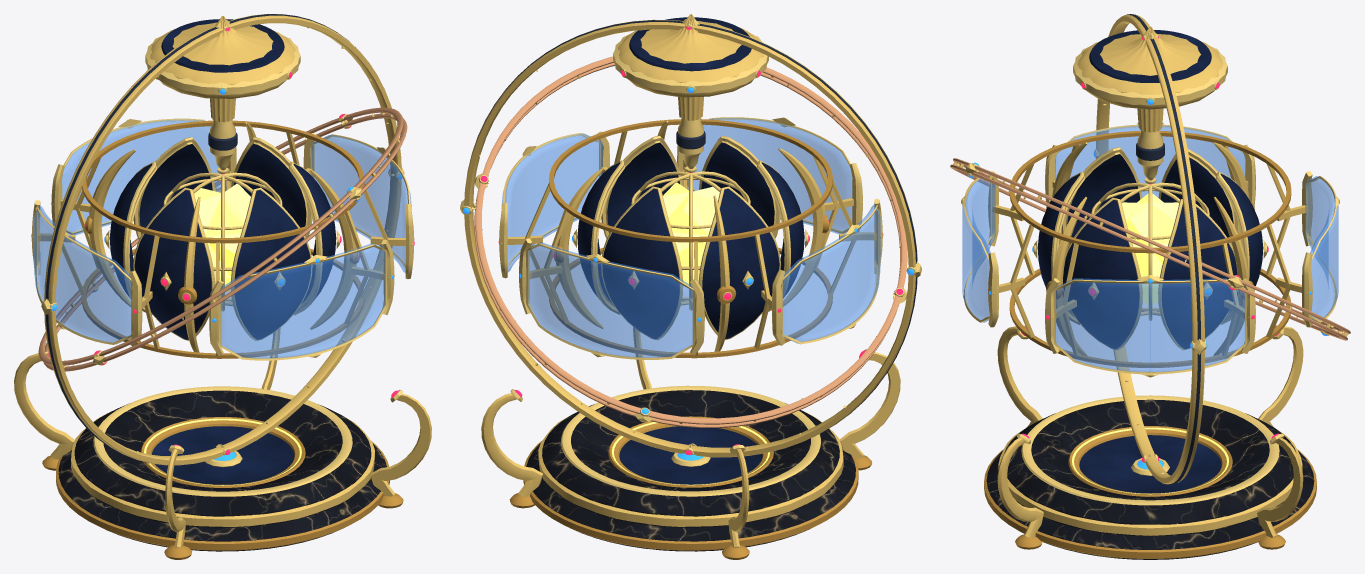
Rendered from veritas_prism.glb.
3 renders of one model, left to right at view 1: azimuth 30°, elevation 25°; view 2: azimuth 150°, elevation 25°; view 3: azimuth 270°, elevation 25°, orthographic.
Parts seen in each view (by area): view 1: Prism_Pedestal, Facet_0, Gimbal_Outer, Brass_Crown, Facet_3, Carousel_Spider, Shutter_0, Facet_1, Gimbal_Equatorial, Shutter_5, Facet_2, Hologram_Core (+8 smaller); view 2: Prism_Pedestal, Facet_2, Gimbal_Outer, Gimbal_Equatorial, Facet_3, Brass_Crown, Carousel_Spider, Shutter_3, Facet_1, Facet_0, Shutter_4, Hologram_Core (+8 smaller); view 3: Prism_Pedestal, Facet_1, Brass_Crown, Carousel_Spider, Gimbal_Outer, Shutter_1, Shutter_2, Facet_0, Facet_2, Facet_3, Gimbal_Equatorial, Hologram_Core (+9 smaller).
Boxes of the visible parts, x1,y1,x2,y2 form: Prism_Pedestal: (14, 328, 431, 559); Facet_0: (209, 239, 394, 360); Gimbal_Outer: (41, 14, 404, 465); Brass_Crown: (145, 16, 300, 122); Facet_3: (31, 200, 152, 346); Carousel_Spider: (62, 120, 388, 358); Shutter_0: (230, 187, 312, 340); Facet_1: (303, 133, 414, 278); Gimbal_Equatorial: (38, 107, 407, 371); Shutter_5: (133, 187, 215, 340); Facet_2: (51, 118, 236, 235); Hologram_Core: (163, 172, 282, 311); Prism_Pedestal: (481, 327, 900, 559); Facet_2: (519, 238, 704, 359); Gimbal_Outer: (460, 19, 921, 457); Gimbal_Equatorial: (474, 56, 907, 427); Facet_3: (761, 199, 883, 345); Brass_Crown: (613, 14, 768, 120); Carousel_Spider: (524, 119, 856, 358); Shutter_3: (601, 186, 683, 339); Facet_1: (498, 131, 609, 278); Facet_0: (677, 117, 862, 234); Shutter_4: (698, 186, 780, 339); Hologram_Core: (631, 171, 750, 310); Prism_Pedestal: (984, 325, 1316, 559); Facet_1: (1045, 275, 1255, 377); Brass_Crown: (1073, 26, 1227, 132); Carousel_Spider: (1009, 131, 1291, 367); Gimbal_Outer: (1094, 14, 1207, 484); Shutter_1: (1062, 197, 1142, 349); Shutter_2: (1158, 199, 1237, 349); Facet_0: (961, 171, 1025, 327); Facet_2: (1275, 171, 1339, 327); Facet_3: (1045, 123, 1255, 206); Gimbal_Equatorial: (950, 158, 1350, 340); Hologram_Core: (1091, 182, 1209, 320).
Size of the model in its own units: 0.8776 by 0.957 by 0.7463.
12 materials, 2 textured.
